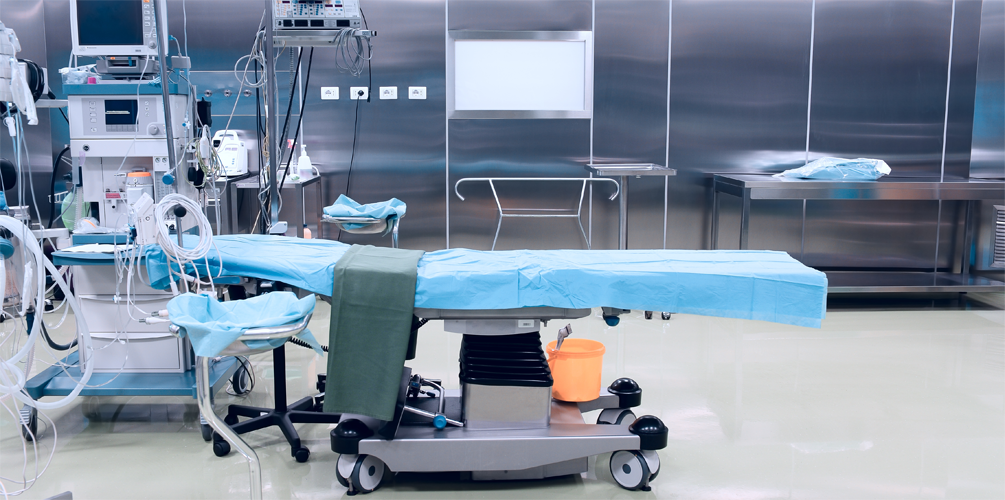bedside_monitor: (70, 1, 169, 58)
breathing_tube: (1, 213, 94, 412)
dispenser: (286, 139, 319, 182)
electrosurgical_unit: (269, 1, 363, 32)
medical_drawer: (66, 263, 197, 377)
operating_bed: (144, 235, 827, 493)
surgical_instrument: (72, 215, 137, 244)
table: (700, 152, 998, 309)
utility_cart: (586, 156, 683, 250)
ventilator: (16, 83, 221, 403)
